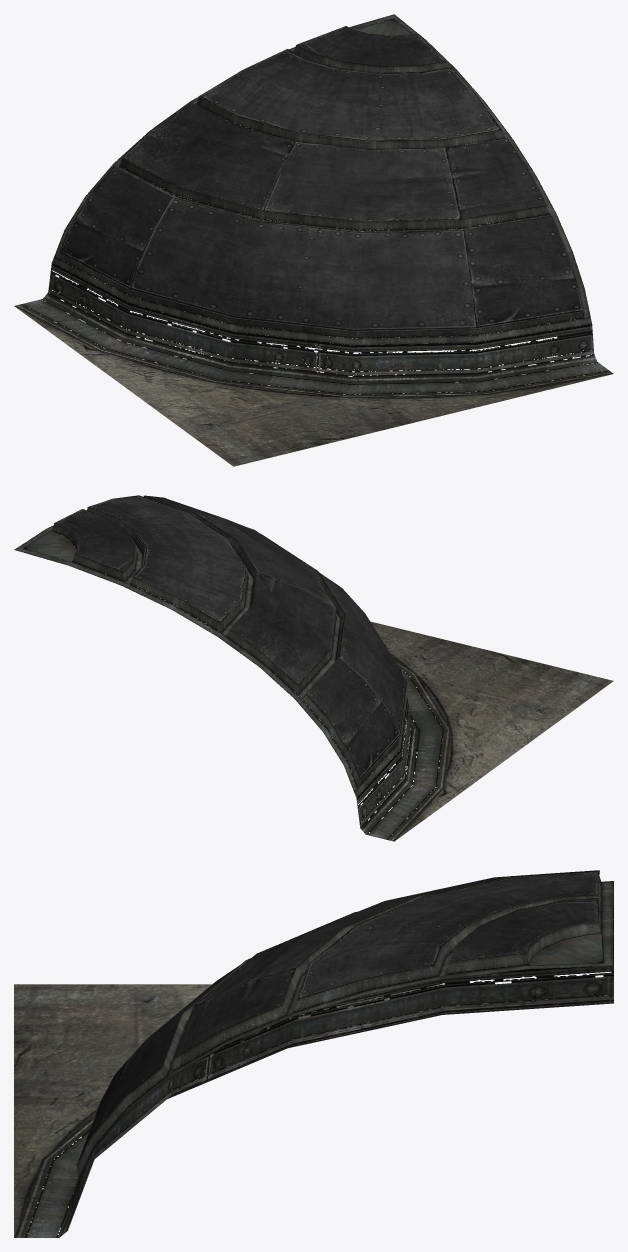
File: tesla_modules1_ceiling_03.dae
The picture shows the model from 3 angles, top to bottom: view 1: azimuth 30°, elevation 25°; view 2: azimuth 150°, elevation 25°; view 3: azimuth 270°, elevation 25°; orthographic projection. The views are drawn at different scales.
Visible parts, largest first — view 1: ceiling_03_sheets, ceiling_03_frame, ceiling_03_corner; view 2: ceiling_03_sheets, ceiling_03_frame, ceiling_03_corner; view 3: ceiling_03_frame, ceiling_03_sheets, ceiling_03_corner.
Boxes of the visible parts, bbox=[...] form: ceiling_03_sheets: bbox=[59, 26, 583, 331]; ceiling_03_frame: bbox=[14, 14, 613, 398]; ceiling_03_corner: bbox=[15, 306, 611, 466]; ceiling_03_sheets: bbox=[53, 496, 406, 780]; ceiling_03_frame: bbox=[14, 495, 451, 841]; ceiling_03_corner: bbox=[370, 621, 613, 840]; ceiling_03_frame: bbox=[14, 870, 613, 1237]; ceiling_03_sheets: bbox=[77, 870, 599, 1165]; ceiling_03_corner: bbox=[14, 984, 444, 1236].
Bounding box in the file's own units: 4 × 2.06 × 4.
